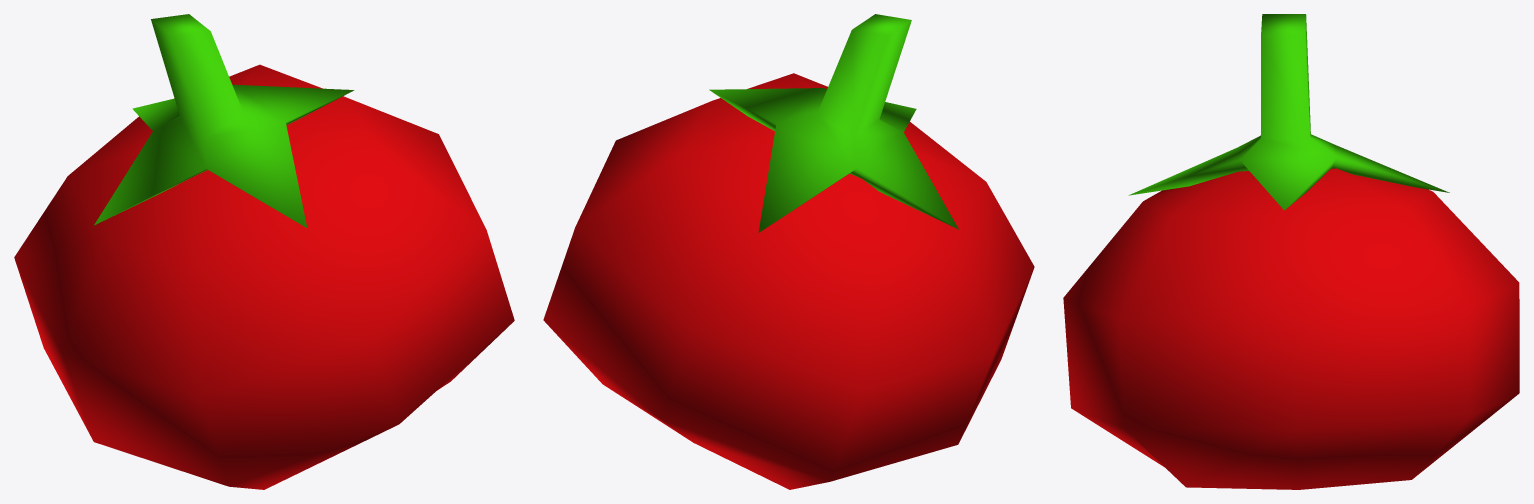
Rendered from TomatoGrow2.fbx.
3 views of the same model, side by side, from view 1: azimuth 30°, elevation 25°; view 2: azimuth 150°, elevation 25°; view 3: azimuth 270°, elevation 25° (orthographic). The views are drawn at different scales.
Visible parts, largest first — view 1: TomatoGrow2; view 2: TomatoGrow2; view 3: TomatoGrow2.
Boxes of the visible parts, bbox=[...] form: TomatoGrow2: bbox=[14, 14, 514, 489]; TomatoGrow2: bbox=[543, 14, 1034, 489]; TomatoGrow2: bbox=[1063, 14, 1519, 489].
Bounding box in the file's own units: 23.66 × 24.4 × 23.8.
